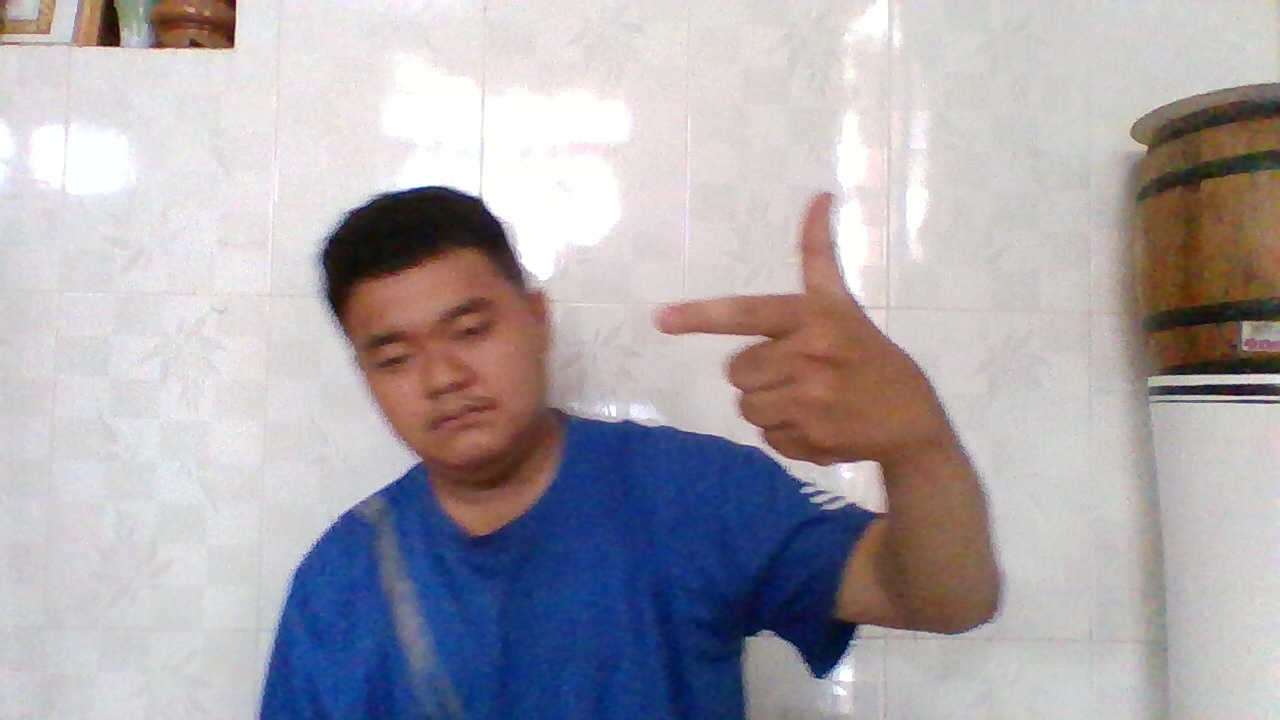G: (645, 193, 937, 457)
